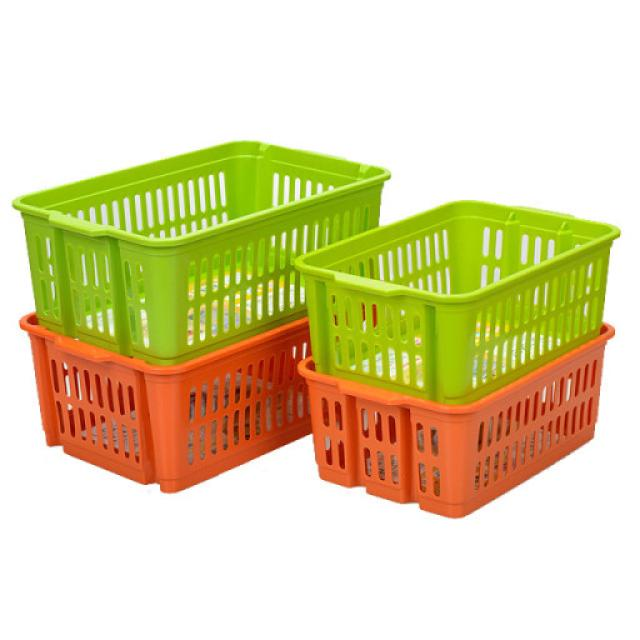basket: (3, 94, 425, 398), (17, 313, 314, 496)
